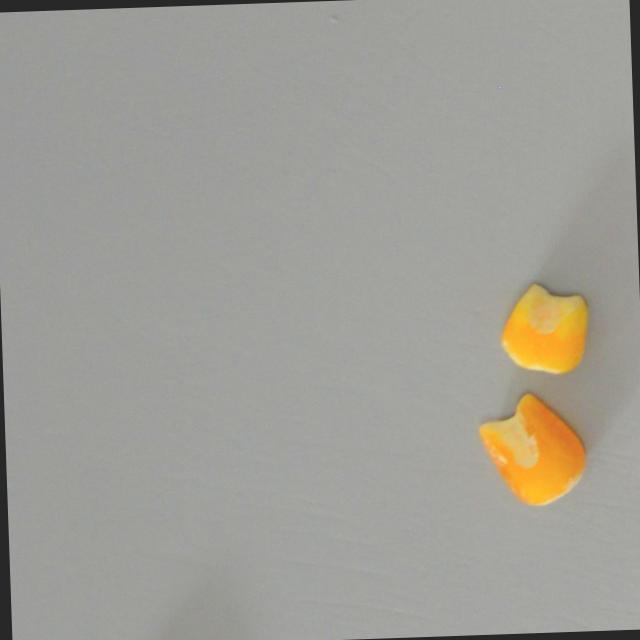no_canjicado: (497, 280, 590, 375)
pelicula: (477, 388, 588, 509)
